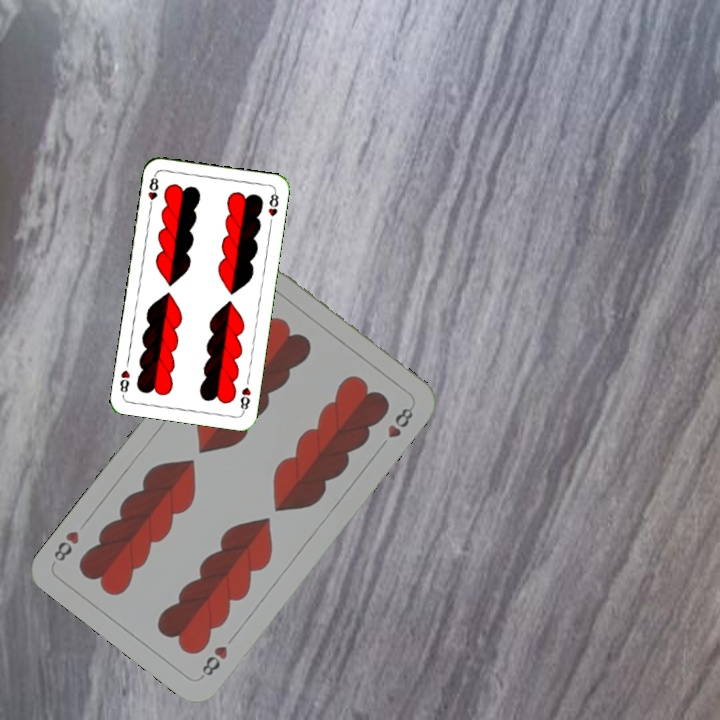H8: (196, 641, 231, 681), (144, 171, 161, 211), (236, 383, 253, 415)
